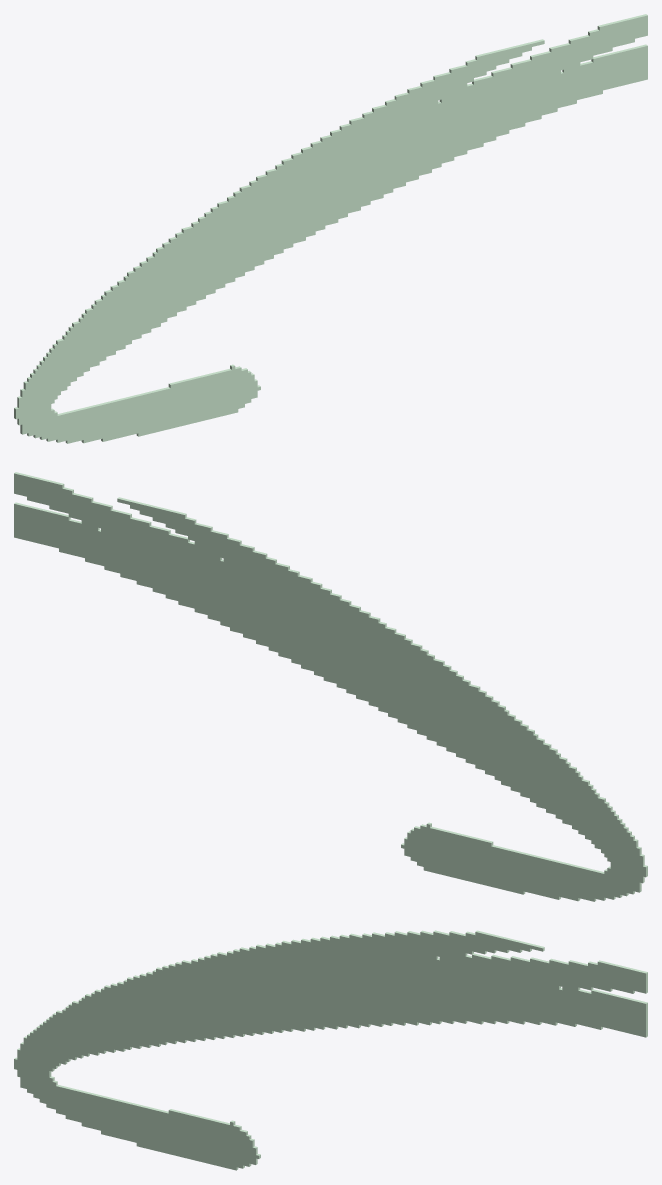
Rendered from Fight_003_2_04_fx.obj.
3 renders of one model, top to bottom at view 1: azimuth 30°, elevation 25°; view 2: azimuth 150°, elevation 25°; view 3: azimuth 330°, elevation 25°, orthographic.
Size of the model in its own units: 19.6 by 8.8 by 0.1.
1 material, 1 textured.
